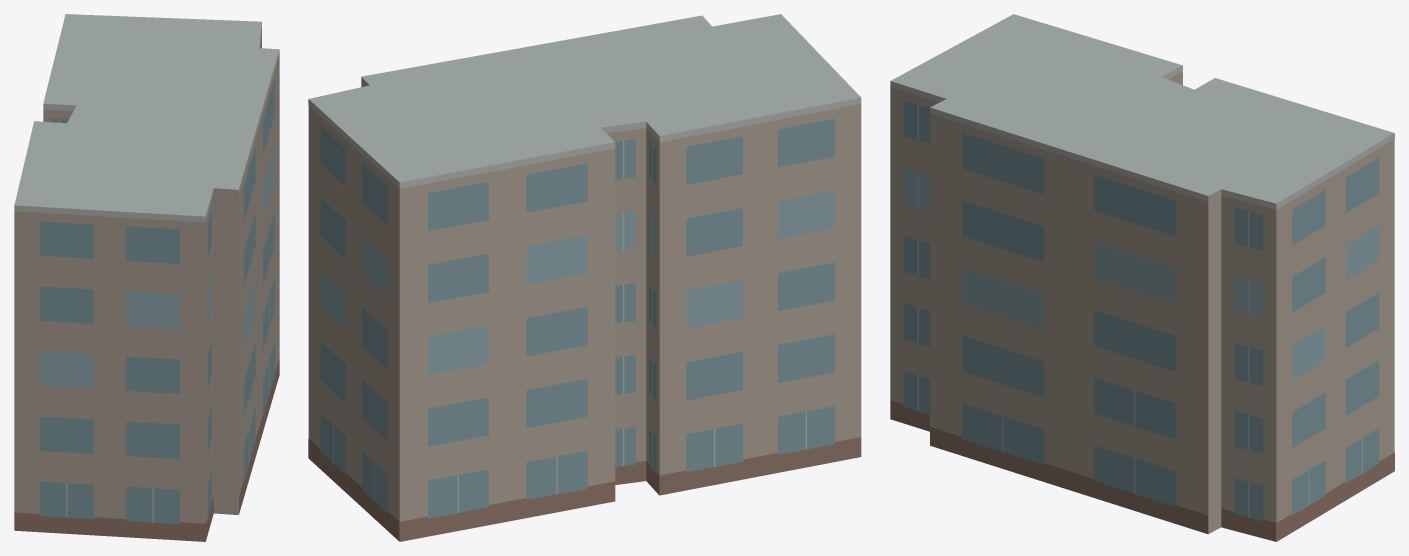
File: survey-upis-32577443.glb
The picture shows the model from 3 angles, left to right: view 1: azimuth 30°, elevation 25°; view 2: azimuth 150°, elevation 25°; view 3: azimuth 270°, elevation 25°; orthographic projection. The views are drawn at different scales.
Parts seen in each view (by area): view 1: survey-upis-32577443.tmp; view 2: survey-upis-32577443.tmp; view 3: survey-upis-32577443.tmp.
Part boxes in pixels (x1,y1,x2,y2): survey-upis-32577443.tmp: [14, 14, 279, 541]; survey-upis-32577443.tmp: [308, 14, 861, 541]; survey-upis-32577443.tmp: [890, 14, 1394, 541].
Size of the model in its own units: 16.55 by 13.75 by 18.6.
